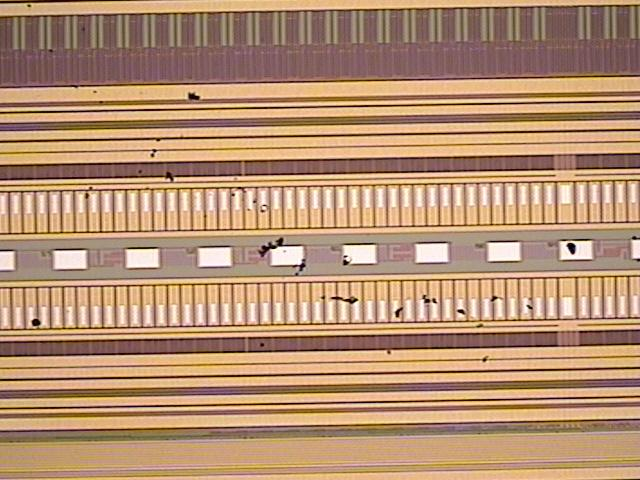PO CONTAMINATION: (25, 2, 542, 360)
